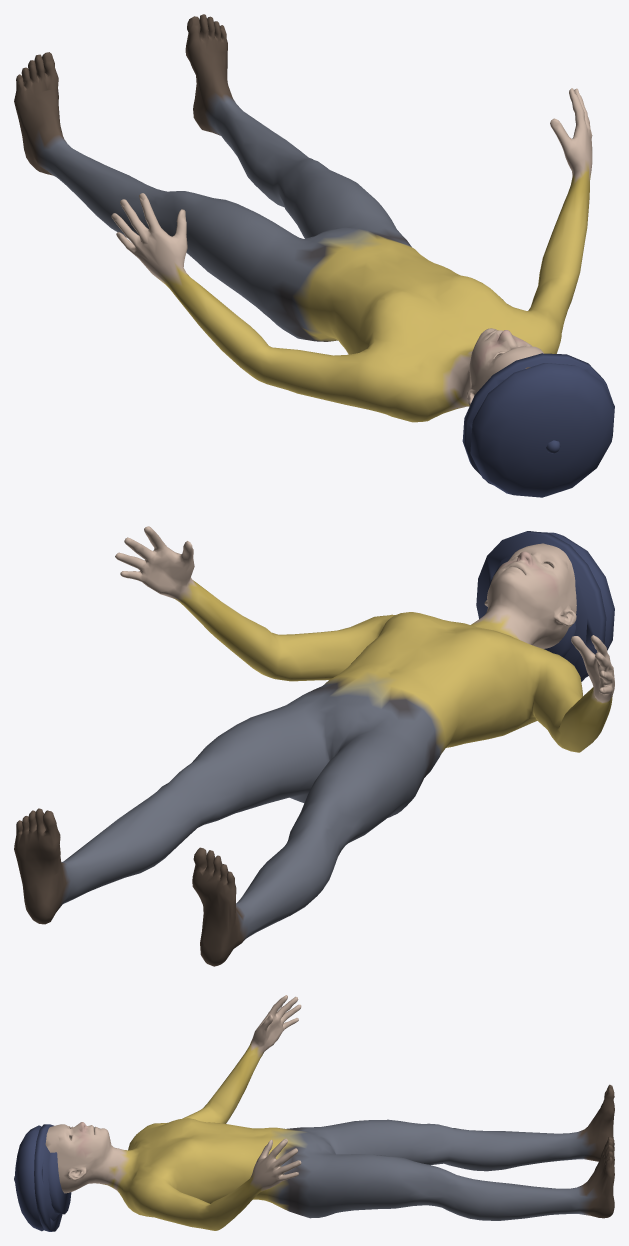
Rendered from teibi_uncut_authored.glb.
The picture shows the model from 3 angles, top to bottom: view 1: azimuth 30°, elevation 25°; view 2: azimuth 150°, elevation 25°; view 3: azimuth 270°, elevation 25°; orthographic projection. The views are drawn at different scales.
Parts seen in each view (by area): view 1: TeibiUncut; view 2: TeibiUncut; view 3: TeibiUncut.
Part boxes in pixels (<box>): TeibiUncut: <box>14,14,614,497</box>; TeibiUncut: <box>14,526,614,966</box>; TeibiUncut: <box>14,995,614,1231</box>.
Bounding box in the file's own units: 1.14 × 0.5305 × 1.84.
